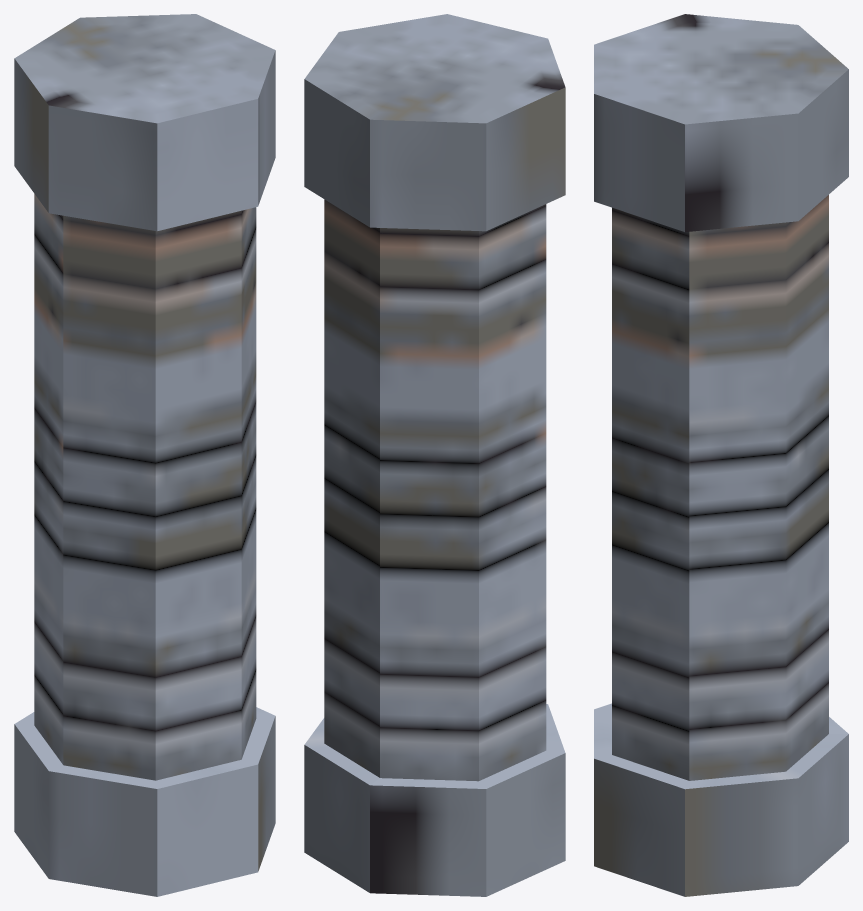
The model's file is Office Fuse.fbx.
3 renders of one model, left to right at view 1: azimuth 30°, elevation 25°; view 2: azimuth 150°, elevation 25°; view 3: azimuth 270°, elevation 25°, orthographic.
Parts seen in each view (by area): view 1: Cylinder.001; view 2: Cylinder.001; view 3: Cylinder.001.
Boxes of the visible parts, x1,y1,x2,y2 form: Cylinder.001: (14, 14, 275, 896); Cylinder.001: (304, 14, 565, 896); Cylinder.001: (594, 14, 848, 896).
Size of the model in its own units: 7.71 by 25.13 by 7.51.
